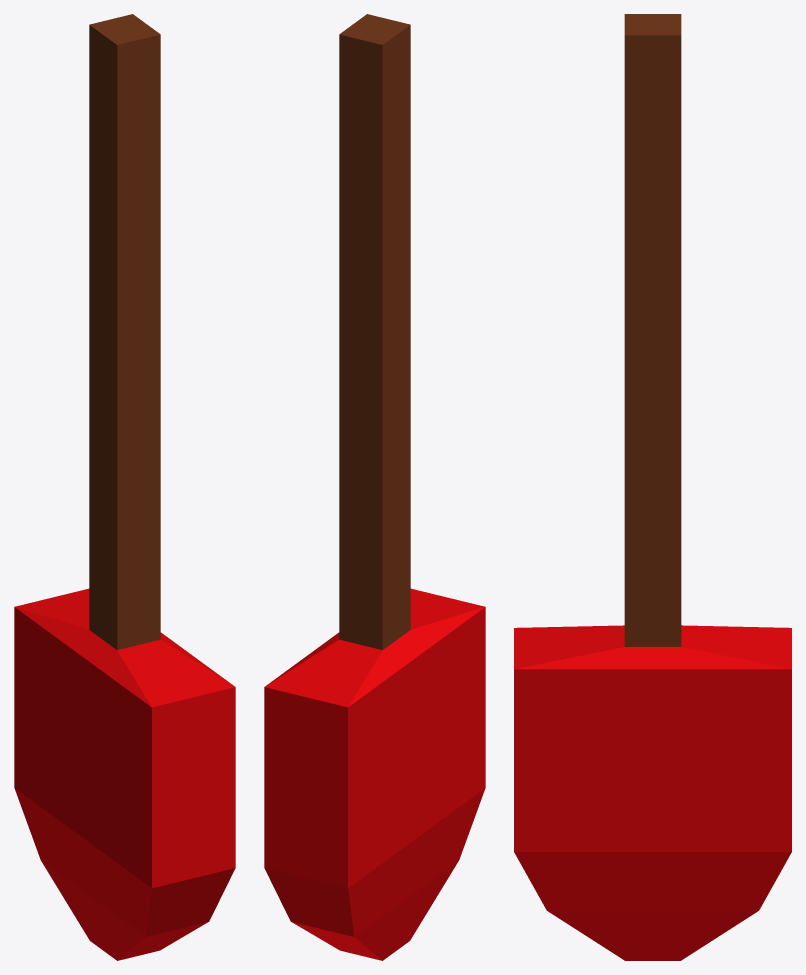
The model's file is shovel.fbx.
3 views of the same model, side by side, from view 1: azimuth 30°, elevation 25°; view 2: azimuth 150°, elevation 25°; view 3: azimuth 270°, elevation 25° (orthographic).
Parts seen in each view (by area): view 1: Cube; view 2: Cube; view 3: Cube.
Part boxes in pixels (box(x1,y1,x2,y2)): Cube: box(14, 14, 235, 960); Cube: box(264, 14, 485, 960); Cube: box(514, 14, 791, 960).
Size of the model in its own units: 70.38 by 735 by 200.
